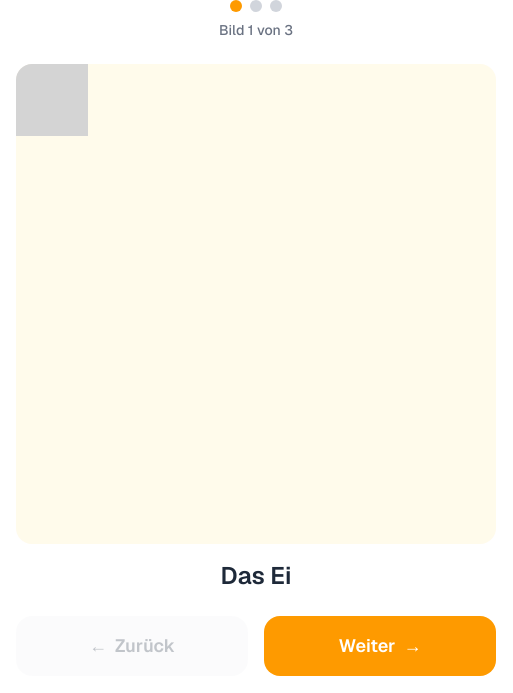
Scenario: SequenceViewer › navigates back on previous button click
The width and height of the screenshot is (513, 693).
Click the button labelled "Weiter →". click: click(380, 646)
box: x1=264 y1=616 x2=496 y2=676
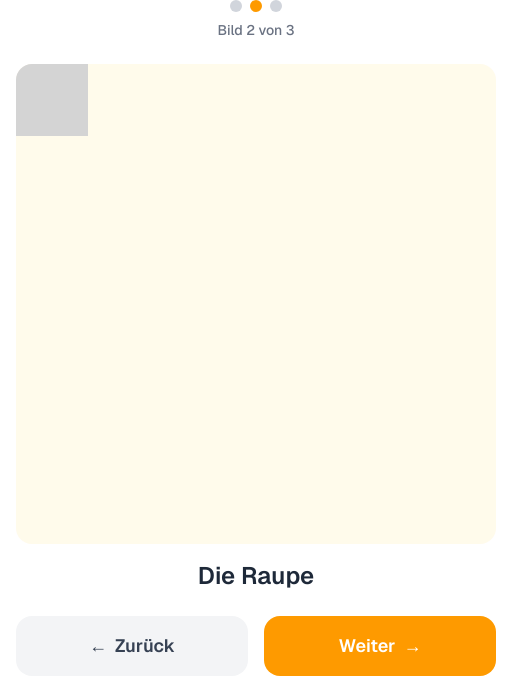
Click the button labelled "← Zurück". click: click(132, 646)
box: x1=16 y1=616 x2=248 y2=676
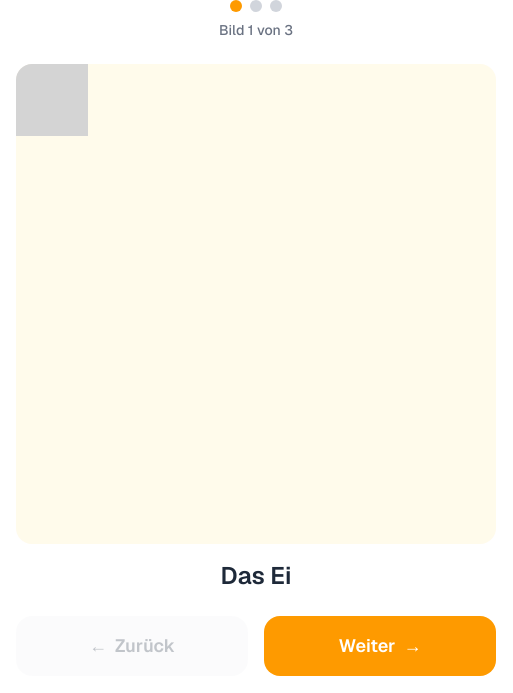
Result: the text "Das Ei" is shown at x1=221 y1=560 x2=292 y2=592
